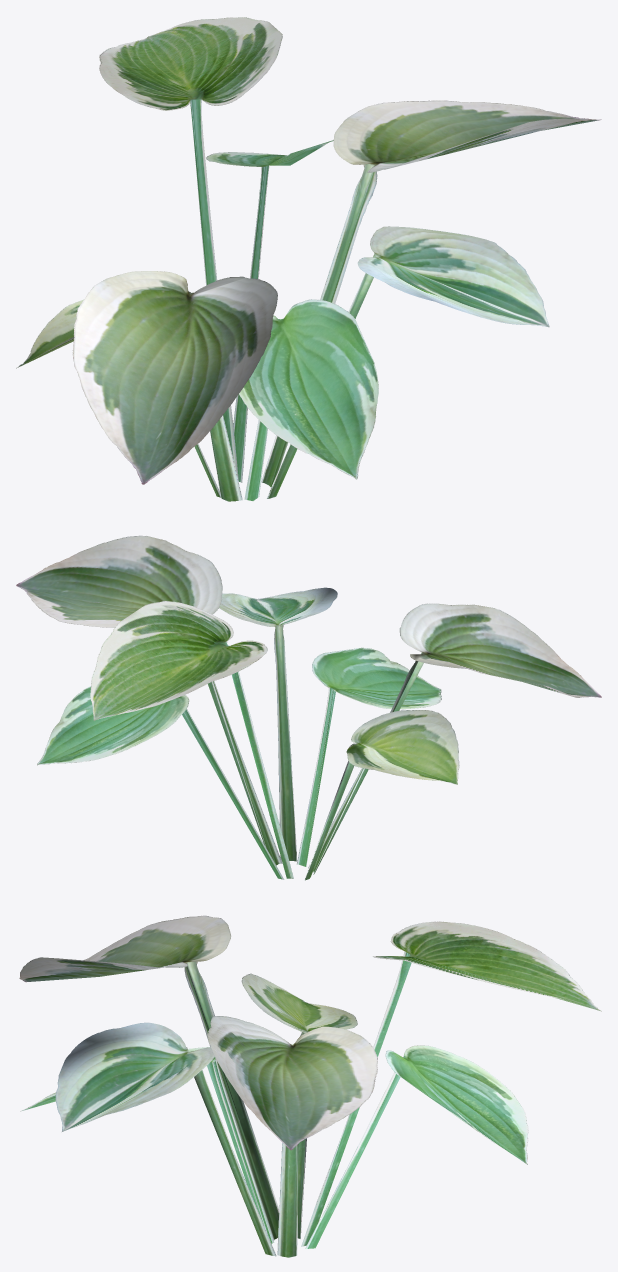
File: plant_small_wg_00M.fbx
3 renders of one model, top to bottom at view 1: azimuth 30°, elevation 25°; view 2: azimuth 150°, elevation 25°; view 3: azimuth 270°, elevation 25°, orthographic. The views are drawn at different scales.
Visible parts, largest first — view 1: plant_small_wg_00M; view 2: plant_small_wg_00M; view 3: plant_small_wg_00M.
Part boxes in pixels (left/top/right/bottom): plant_small_wg_00M: left=16, top=17, right=601, bottom=501; plant_small_wg_00M: left=16, top=535, right=601, bottom=880; plant_small_wg_00M: left=19, top=915, right=601, bottom=1257.
Size of the model in its own units: 51.82 by 30.55 by 48.69.
Materials: 1 (1 with a texture image).
